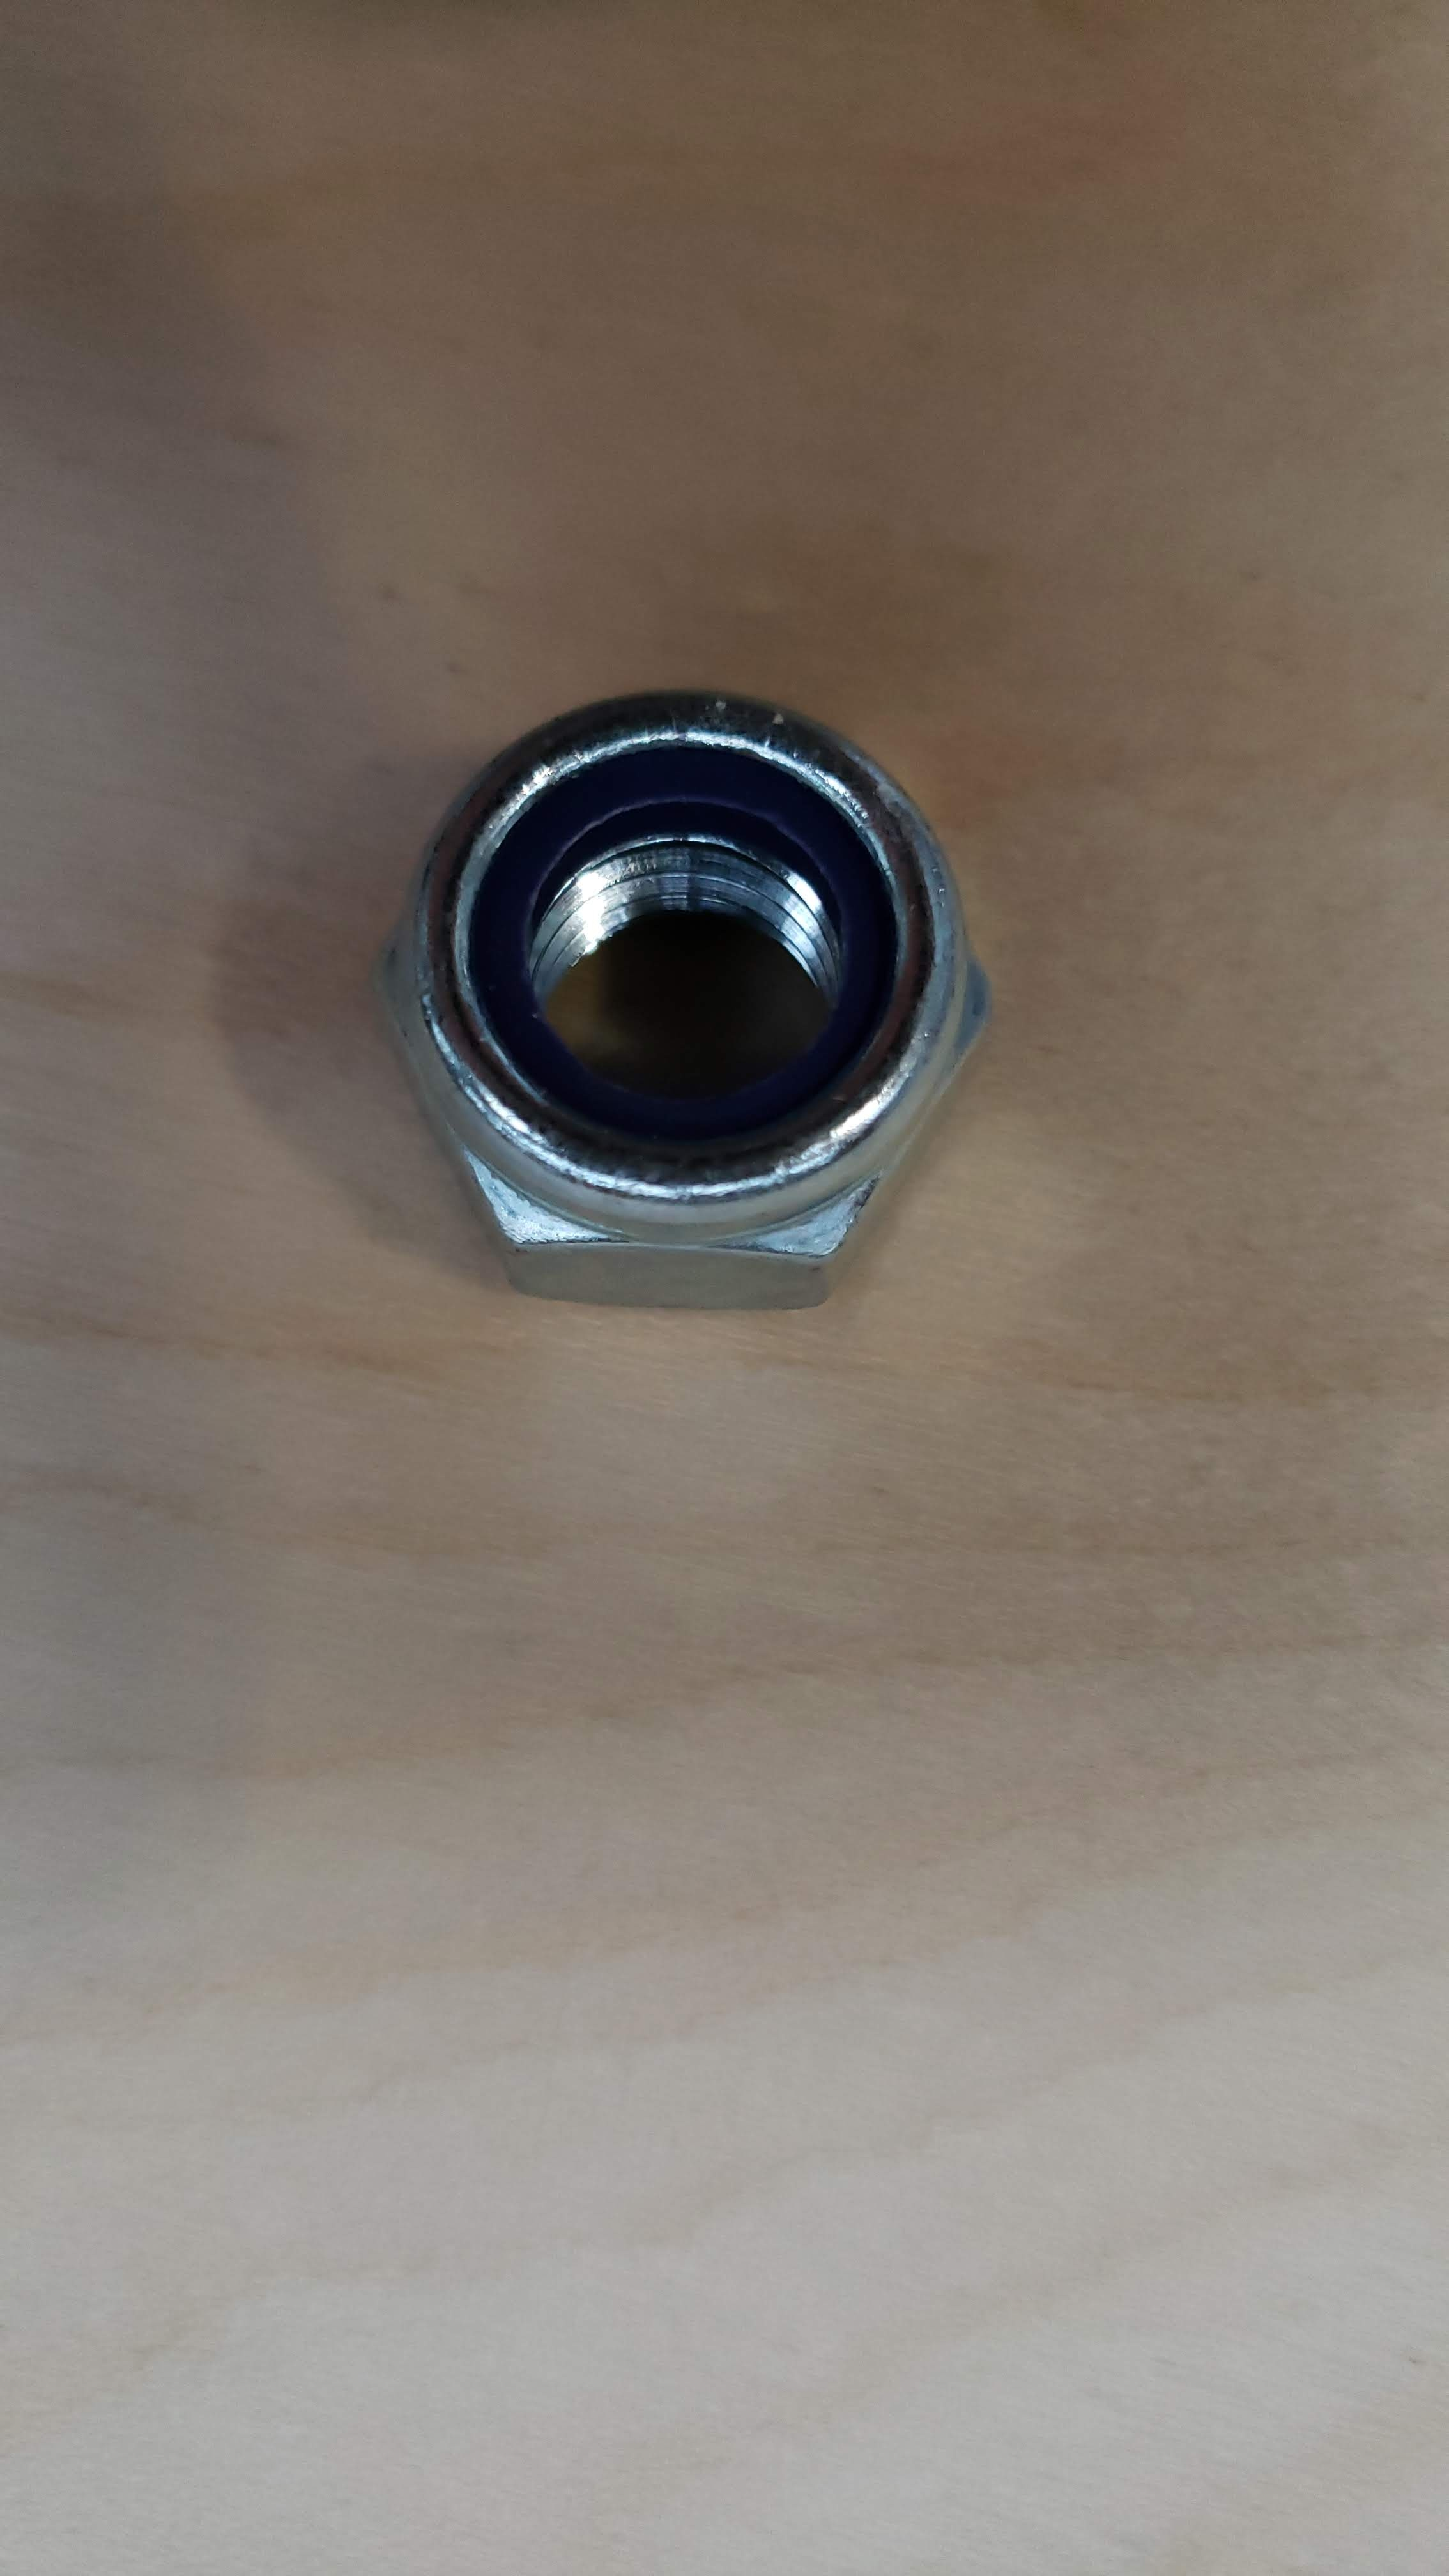Nut: (246, 596, 1116, 1529)
